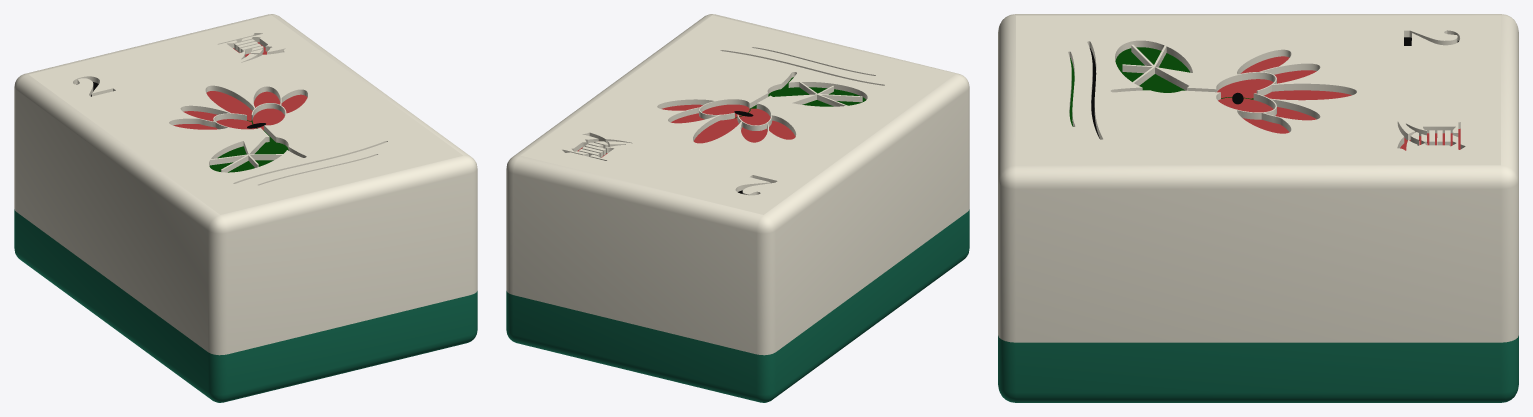
Rendered from Season2_Summer.glb.
3 views of the same model, side by side, from view 1: azimuth 30°, elevation 25°; view 2: azimuth 150°, elevation 25°; view 3: azimuth 270°, elevation 25° (orthographic). The views are drawn at different scales.
Visible parts, largest first — view 1: Season2_Summer_body, Season2_Summer_inset; view 2: Season2_Summer_body, Season2_Summer_inset; view 3: Season2_Summer_body, Season2_Summer_inset.
Boxes of the visible parts, left/top/right/bottom form: Season2_Summer_body: left=14, top=14, right=477, bottom=402; Season2_Summer_inset: left=76, top=42, right=307, bottom=172; Season2_Summer_body: left=506, top=14, right=969, bottom=402; Season2_Summer_inset: left=577, top=77, right=865, bottom=193; Season2_Summer_body: left=998, top=14, right=1518, bottom=402; Season2_Summer_inset: left=1069, top=37, right=1460, bottom=150.
Bounding box in the file's own units: 0.024 × 0.016 × 0.032.
